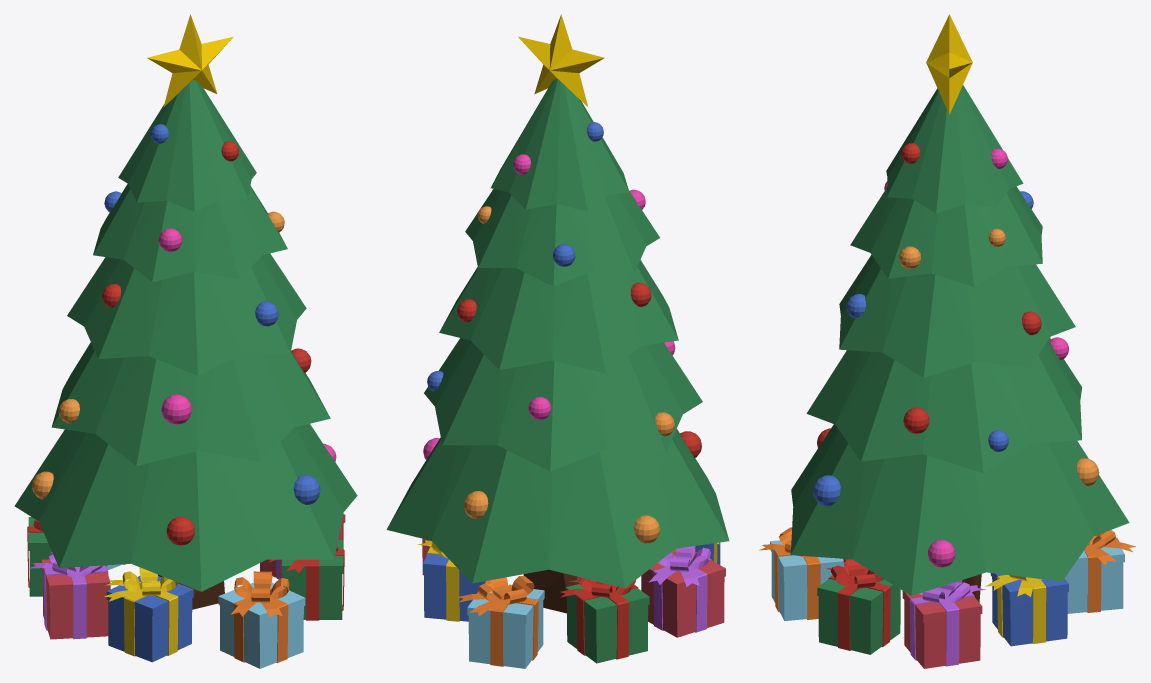
The model's file is FH_ChristmasTree.fbx.
The picture shows the model from 3 angles, left to right: view 1: azimuth 30°, elevation 25°; view 2: azimuth 150°, elevation 25°; view 3: azimuth 270°, elevation 25°; orthographic projection.
Visible parts, largest first — view 1: Present.009; view 2: Present.009; view 3: Present.009.
Part boxes in pixels (x1,y1,x2,y2): Present.009: (14,14,357,668); Present.009: (386,14,729,668); Present.009: (759,14,1135,668).
Bounding box in the file's own units: 1372 × 2554 × 1480.
